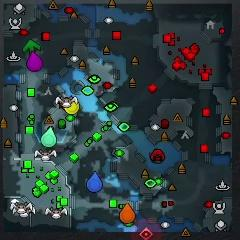p1: (87, 171, 103, 192)
p2: (41, 127, 56, 148)
p3: (26, 51, 42, 71)
p4: (64, 100, 79, 115)
p5: (120, 203, 136, 223)
x4: (23, 40, 41, 54)
